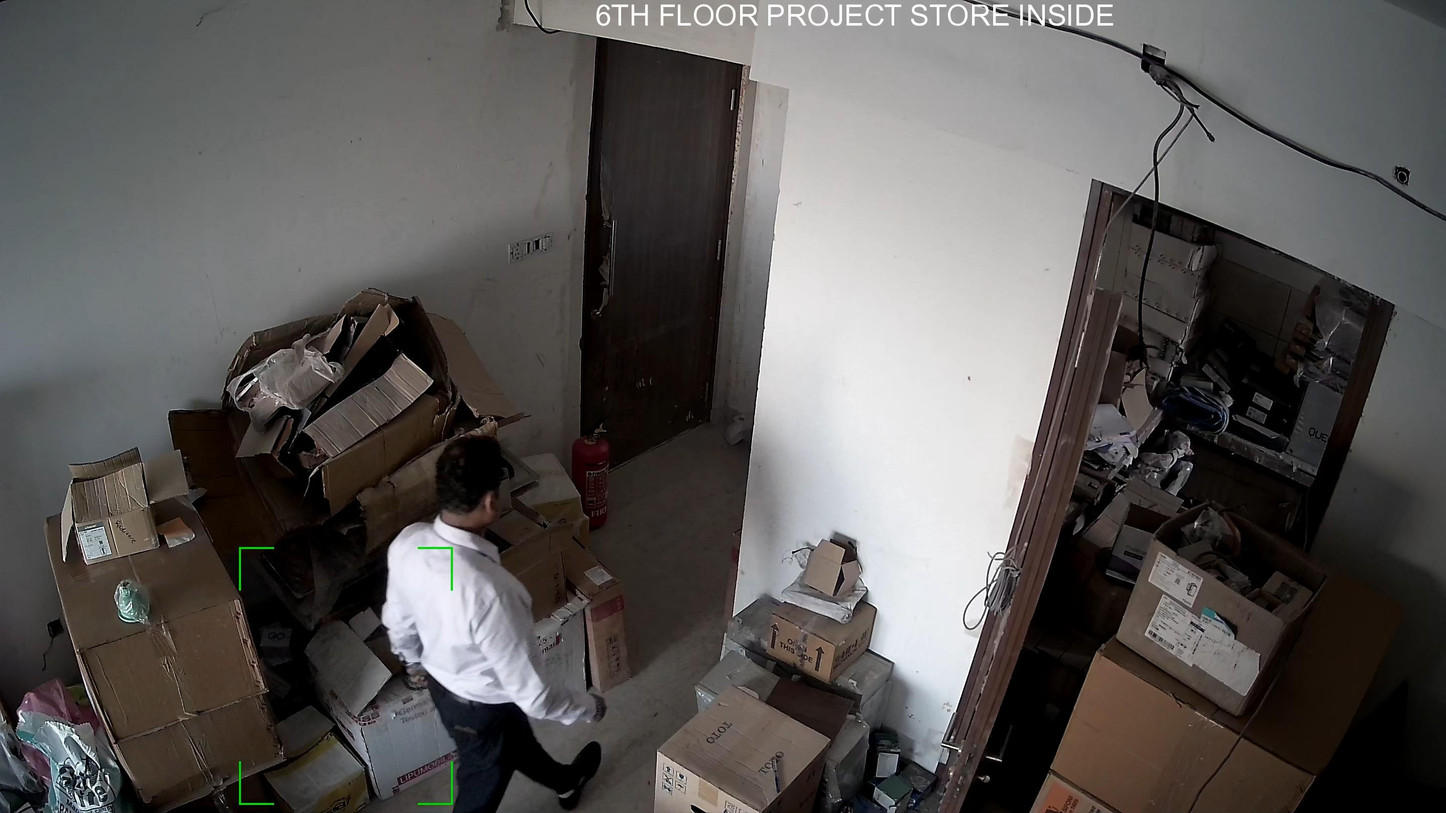Door-Close: (567, 30, 766, 474)
